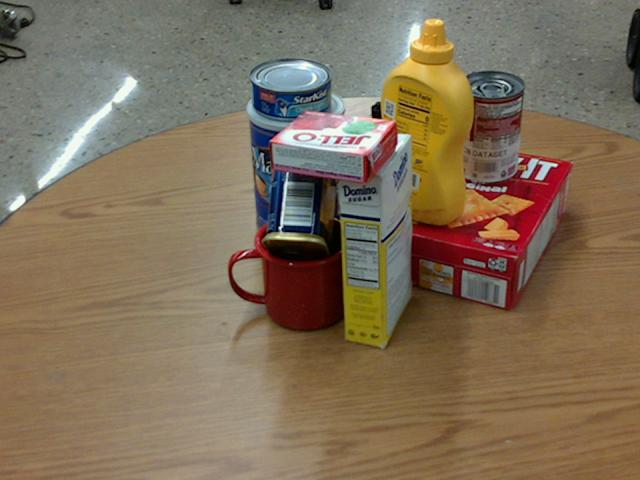cracker_box: (360, 137, 571, 309)
gelatin_box: (267, 109, 398, 184)
large_marker: (369, 103, 385, 202)
master_chef_can: (248, 84, 346, 241)
mug: (225, 212, 349, 330)
mustard_bottle: (375, 19, 474, 224)
potted_meat_can: (262, 148, 336, 267)
sugar_box: (336, 131, 411, 346)
tomato_soup_can: (455, 70, 523, 183)
tuna_fish_can: (249, 57, 331, 118)
